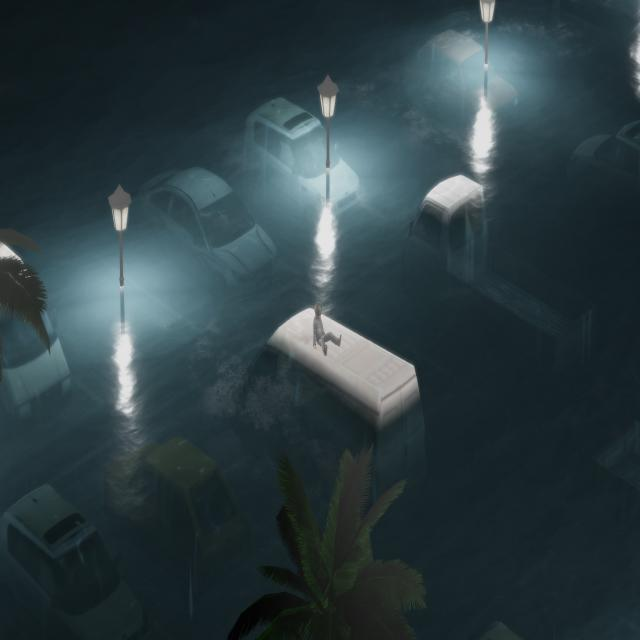Human: (309, 295, 345, 361)
